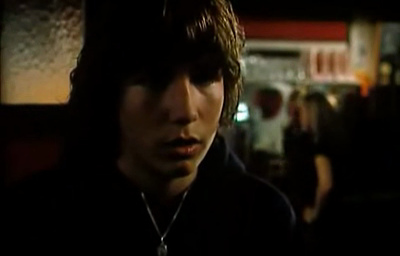cu: (1, 1, 400, 256)
face: (122, 39, 224, 178)
person: (1, 1, 299, 256)
